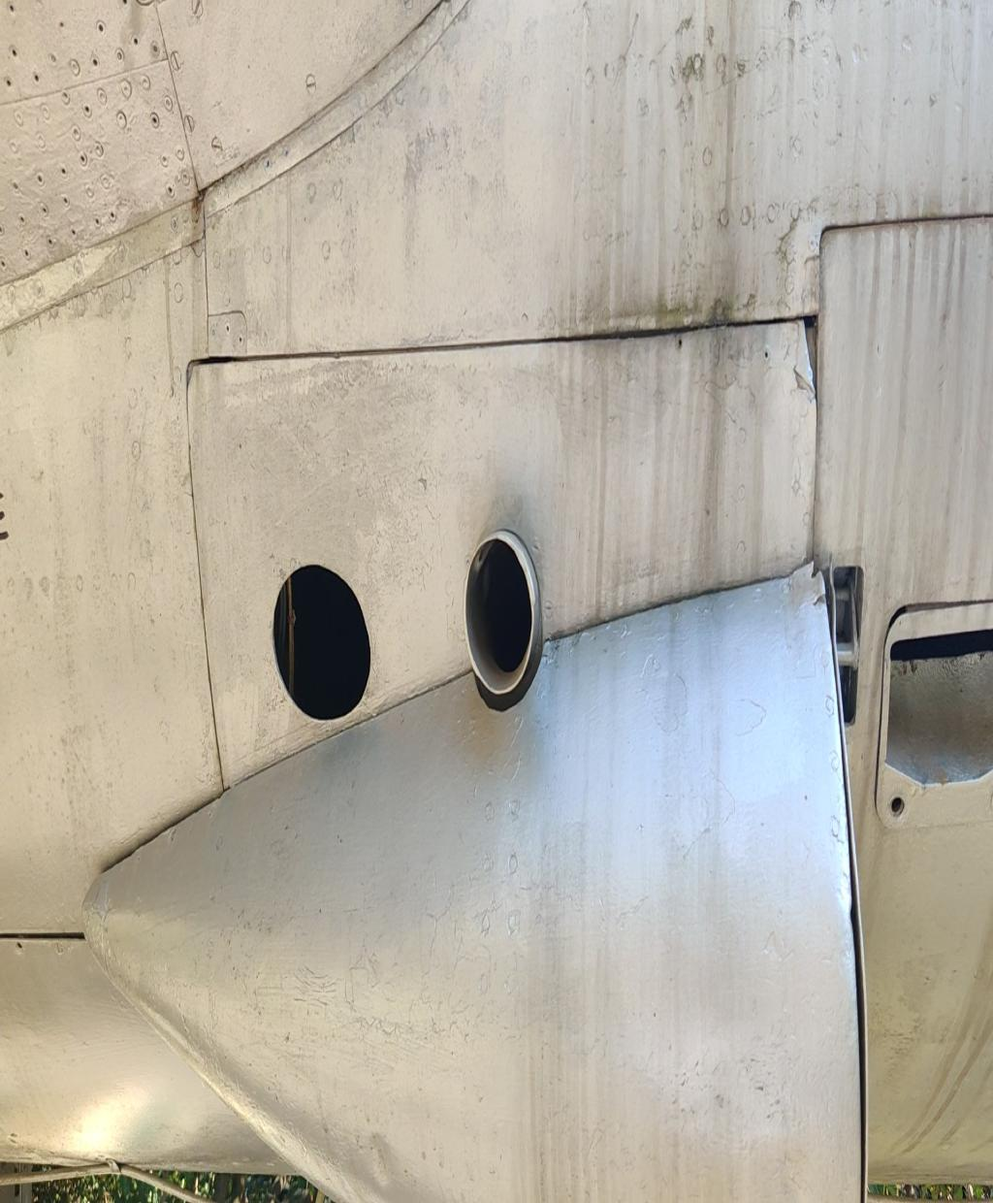crack: (791, 541, 829, 626)
dent: (358, 1123, 402, 1195)
